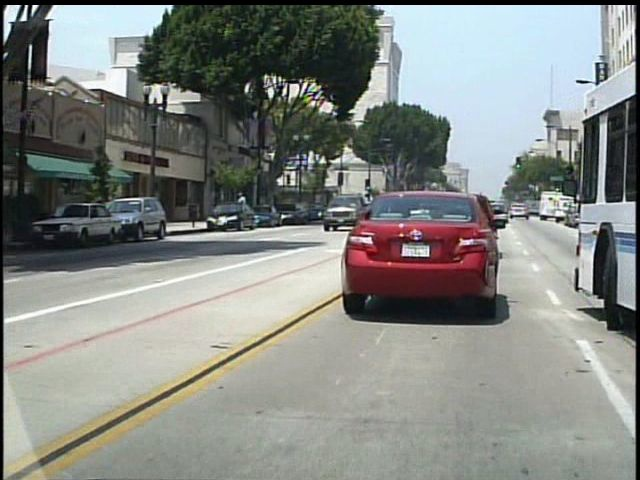person: (240, 190, 253, 224)
